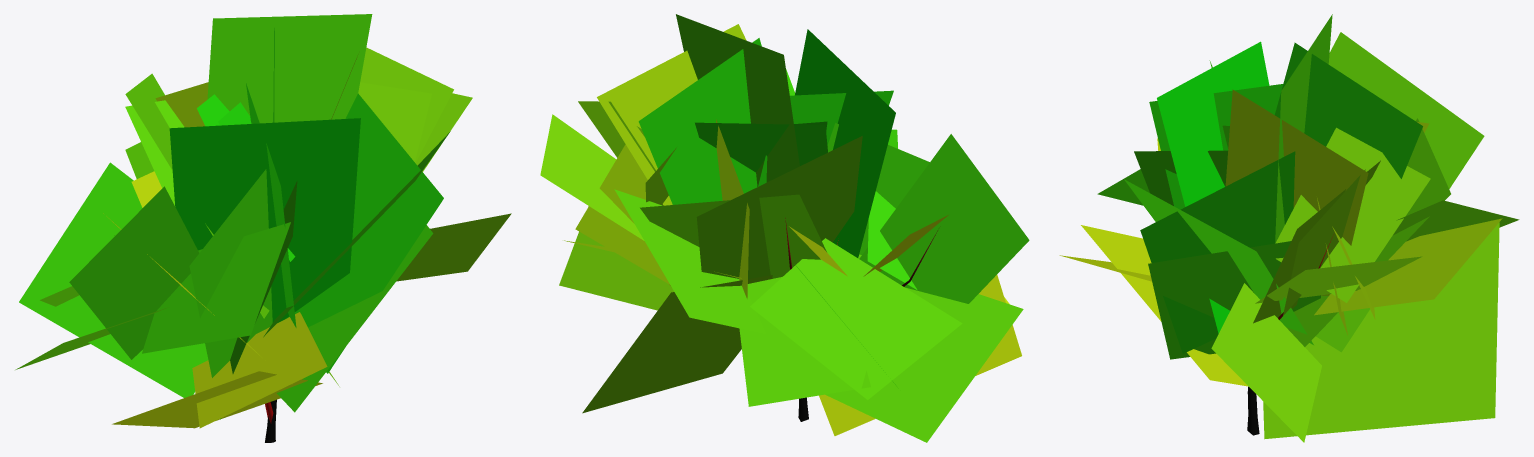
Rendered from CalamusSwamp02.FBX.
3 renders of one model, left to right at view 1: azimuth 30°, elevation 25°; view 2: azimuth 150°, elevation 25°; view 3: azimuth 270°, elevation 25°, orthographic. The views are drawn at different scales.
Parts seen in each view (by area): view 1: CalamusSwamp02; view 2: CalamusSwamp02; view 3: CalamusSwamp02.
Boxes of the visible parts, x1,y1,x2,y2 form: CalamusSwamp02: (15,14,511,442); CalamusSwamp02: (540,14,1029,442); CalamusSwamp02: (1059,14,1519,442).
Bounding box in the file's own units: 318 × 276 × 281.
